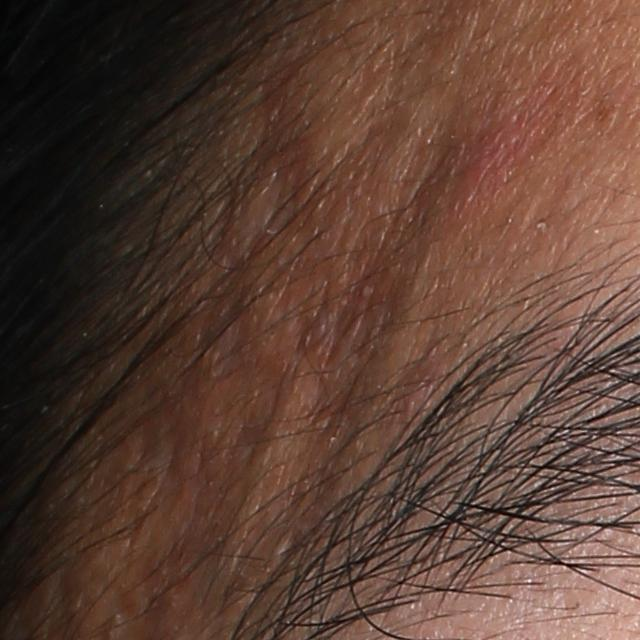atrophic_scar: (218, 98, 493, 601), (94, 144, 352, 582)
papule: (451, 150, 504, 224)
